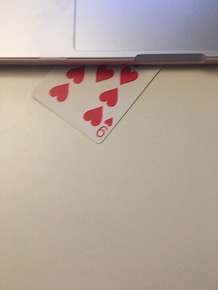NineOfHearts: (22, 55, 167, 148)
